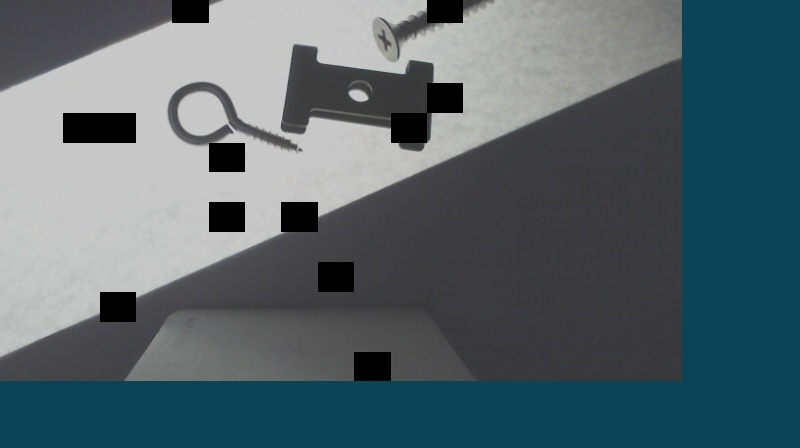O001: (166, 81, 305, 158)
O002: (279, 44, 433, 154)
S001: (368, 0, 505, 64)
